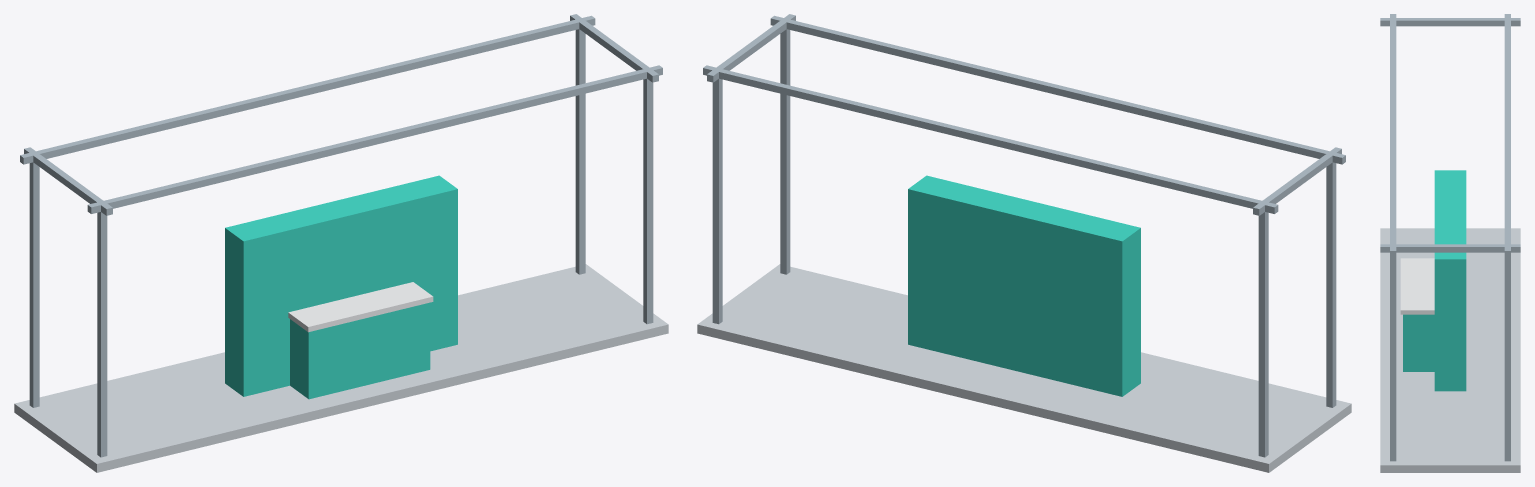
3 views of the same model, side by side, from view 1: azimuth 30°, elevation 25°; view 2: azimuth 150°, elevation 25°; view 3: azimuth 270°, elevation 25° (orthographic). The views are drawn at different scales.
Visible parts, largest first — view 1: Exhibition Booth Concept; view 2: Exhibition Booth Concept; view 3: Exhibition Booth Concept.
Part boxes in pixels (left/top/right/bottom): Exhibition Booth Concept: left=14, top=14, right=668, bottom=472; Exhibition Booth Concept: left=697, top=14, right=1351, bottom=472; Exhibition Booth Concept: left=1380, top=14, right=1520, bottom=472.
Size of the model in its own units: 8 by 3.49 by 2.
